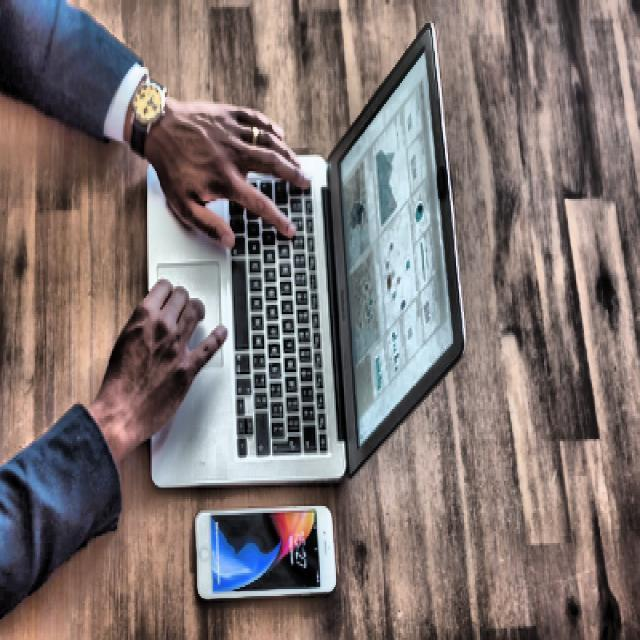Phone: (194, 503, 335, 602)
